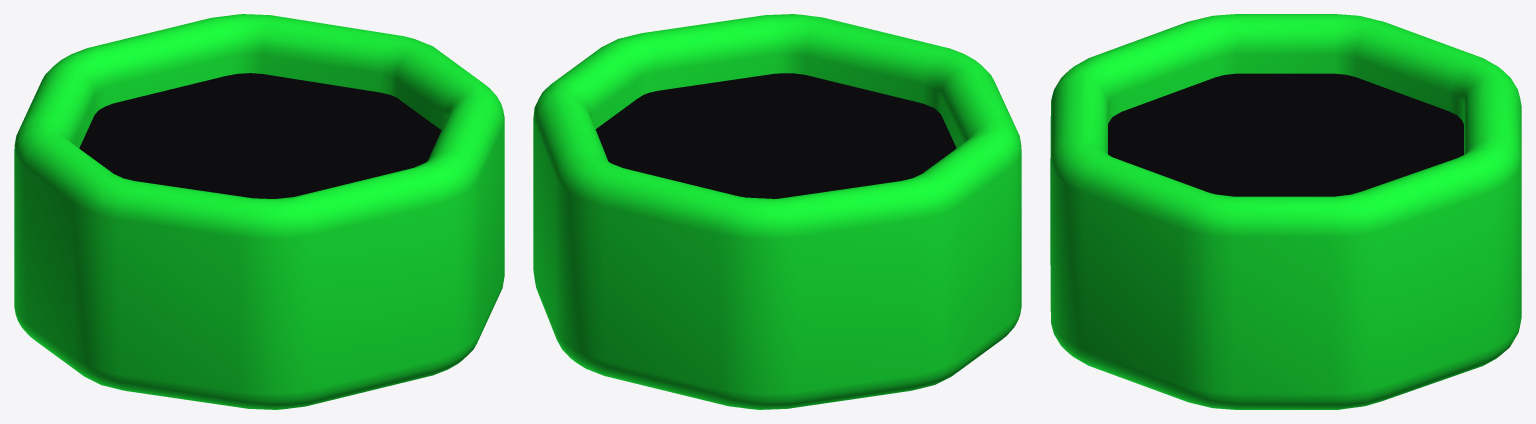
Rendered from Particle-29.dae.
The picture shows the model from 3 angles, left to right: view 1: azimuth 30°, elevation 25°; view 2: azimuth 150°, elevation 25°; view 3: azimuth 270°, elevation 25°; orthographic projection.
Parts seen in each view (by area): view 1: Particle; view 2: Particle; view 3: Particle.
Part boxes in pixels (<box>): Particle: <box>14,14,504,409</box>; Particle: <box>533,14,1021,409</box>; Particle: <box>1050,14,1521,409</box>.
Bounding box in the file's own units: 0.1279 × 0.06 × 0.123.
